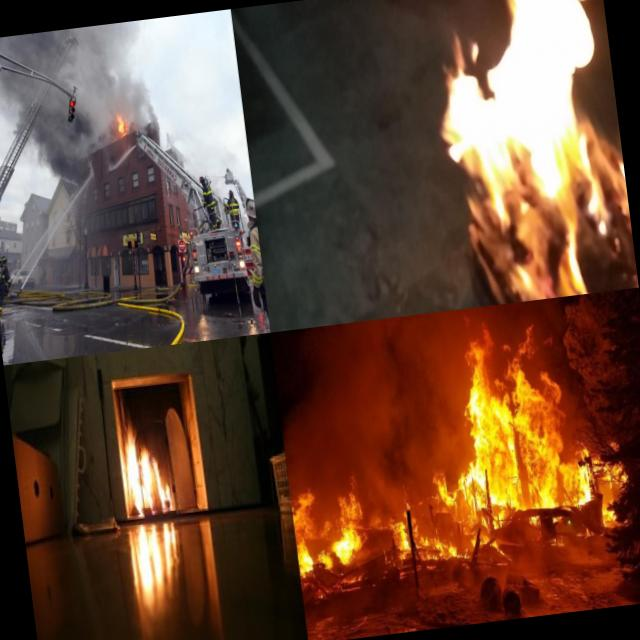fire: (427, 0, 638, 308), (446, 320, 575, 542), (381, 467, 474, 578), (288, 469, 374, 584), (115, 408, 176, 528), (566, 438, 628, 530), (114, 110, 130, 137)
smoke: (0, 22, 125, 127), (28, 110, 120, 182), (116, 18, 164, 132), (377, 322, 432, 406), (372, 404, 411, 476), (404, 398, 459, 447)
